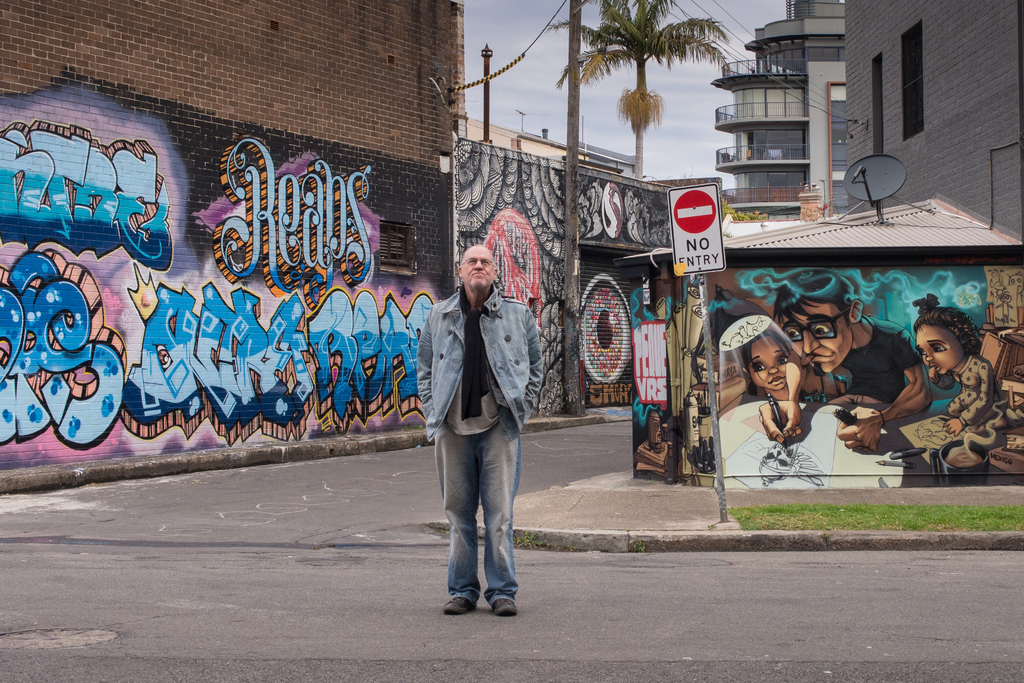Tree: (544, 0, 733, 180), (717, 197, 764, 219)
